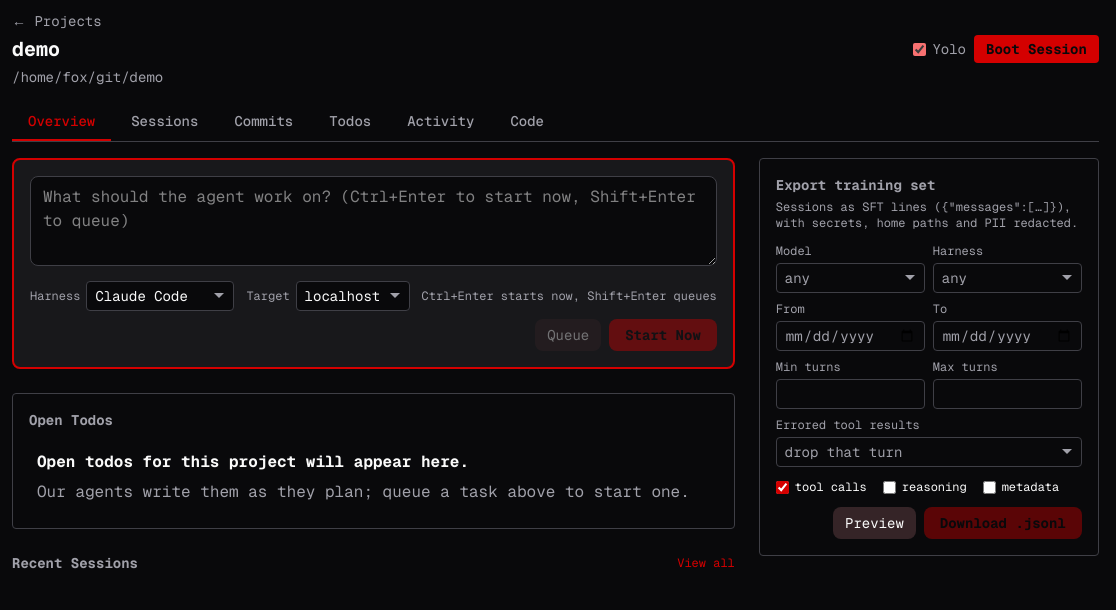
Test: starting work › reports a refused boot with the reason, not just a failure
Click the button "Boot Session" at (1036, 49), box [974,35,1099,63]
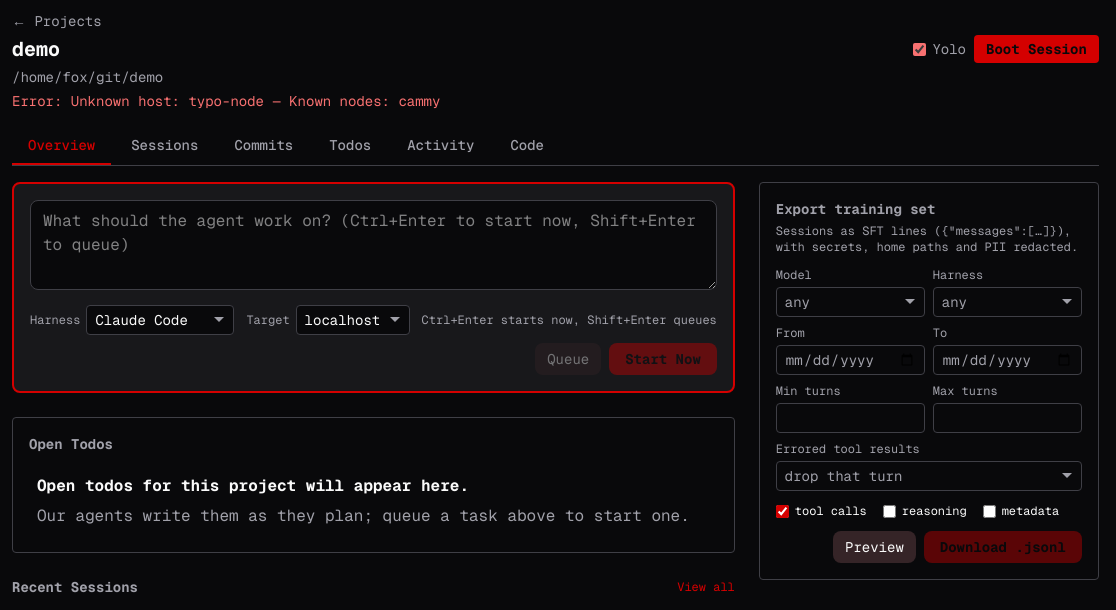
Now the text "Error: Unknown host: typo-node — Known nodes: cammy" is shown, box [12,91,440,111]
